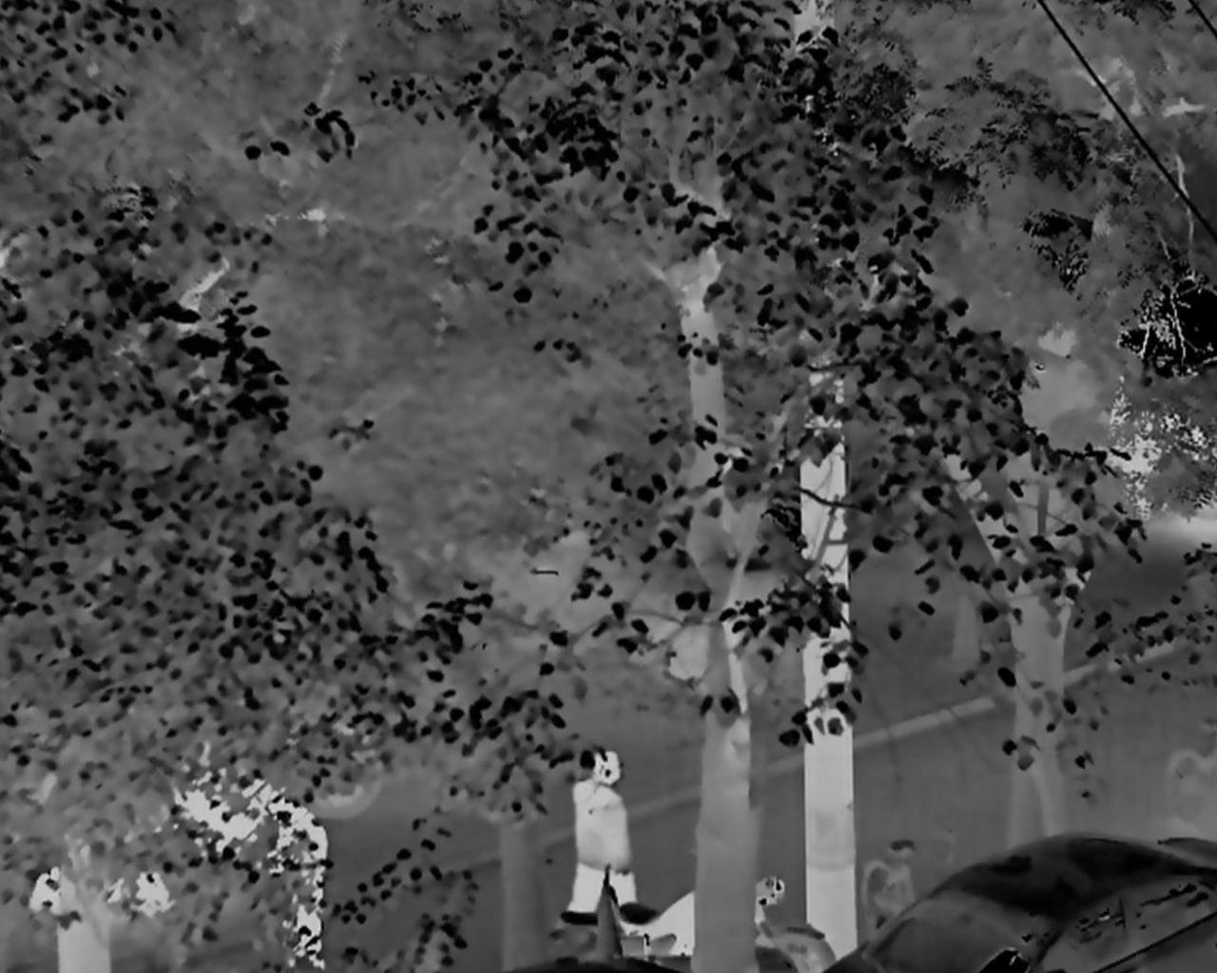person: (262, 793, 327, 970), (572, 754, 632, 927)
